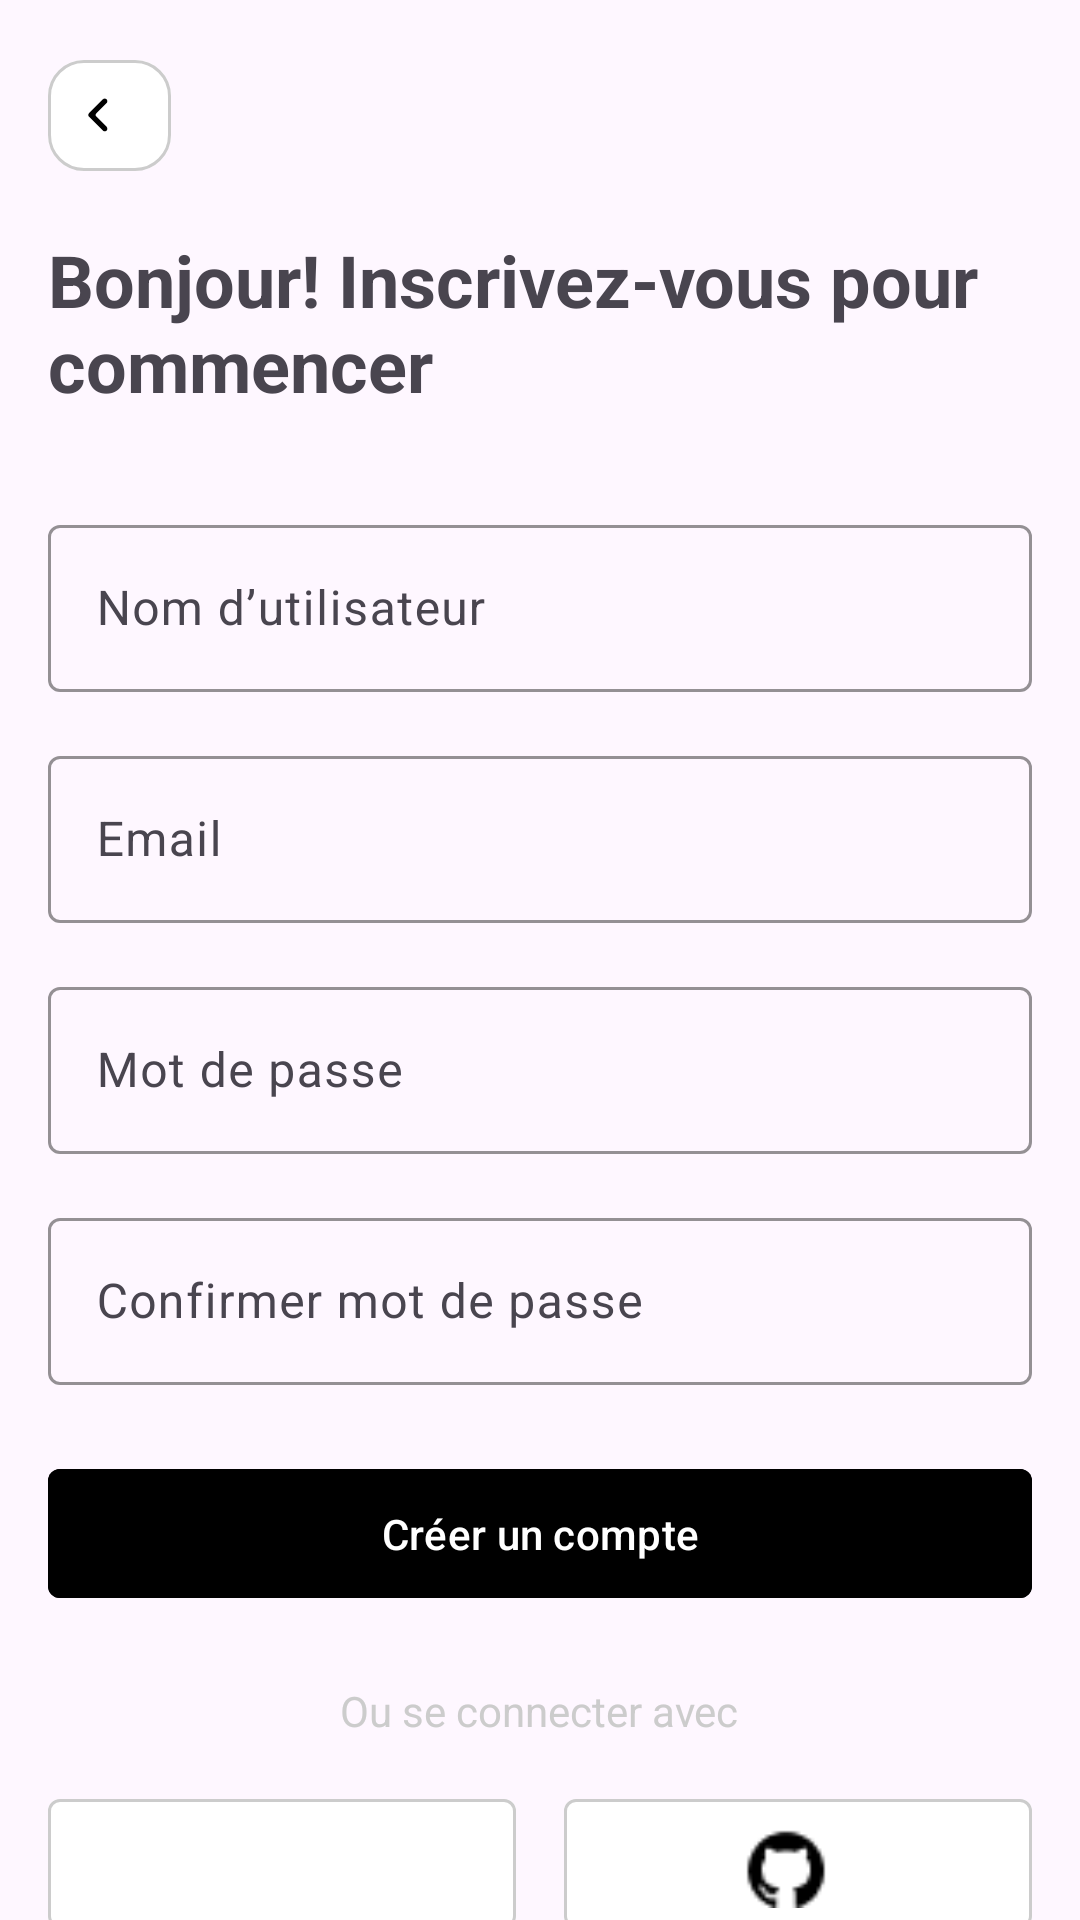

Icons on this 1080x1920 Android screen, each with the point to tap as [x,y]:
chevron left: [109,115]
